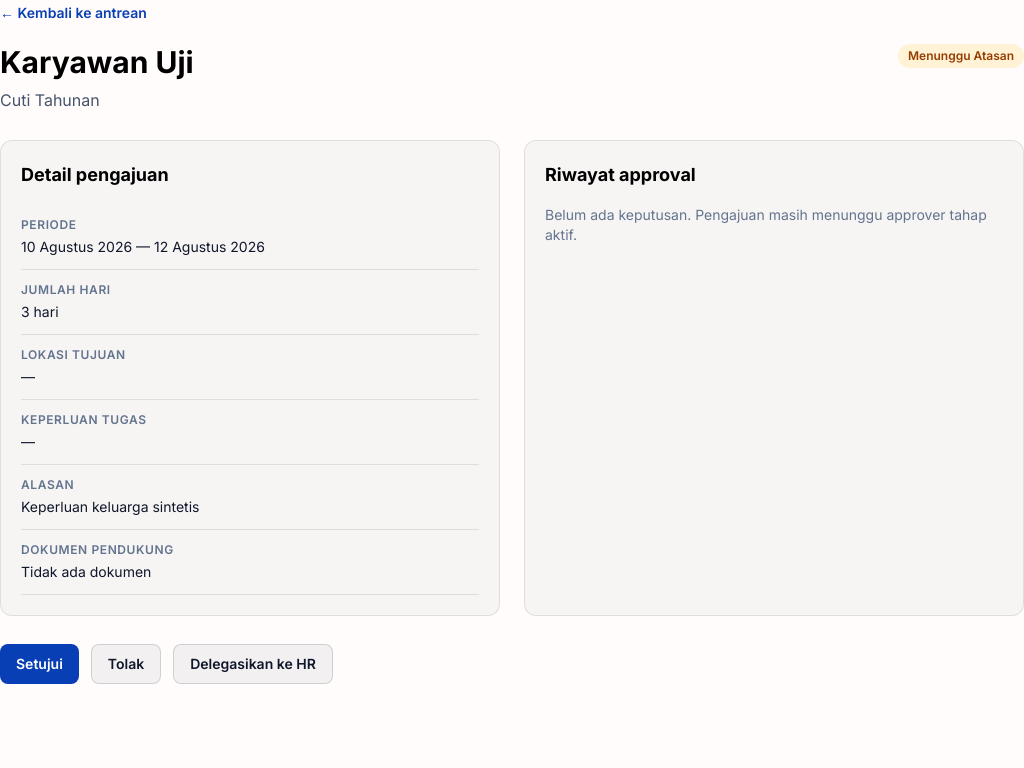
Test: ApprovalDetailPage › refreshes the detail when the server reports ALREADY_DECIDED
Click the button "Setujui" at x=39, y=664, box left=0, top=644, right=79, bottom=684
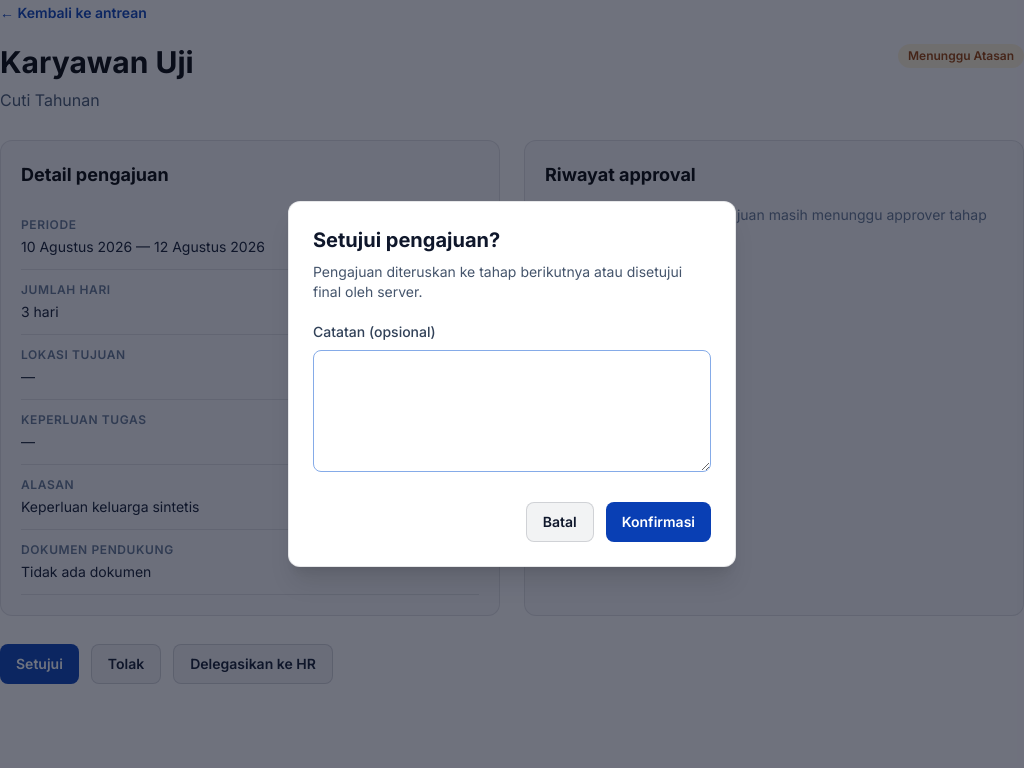
Click the button "Konfirmasi" at x=658, y=522, box left=606, top=502, right=711, bottom=542
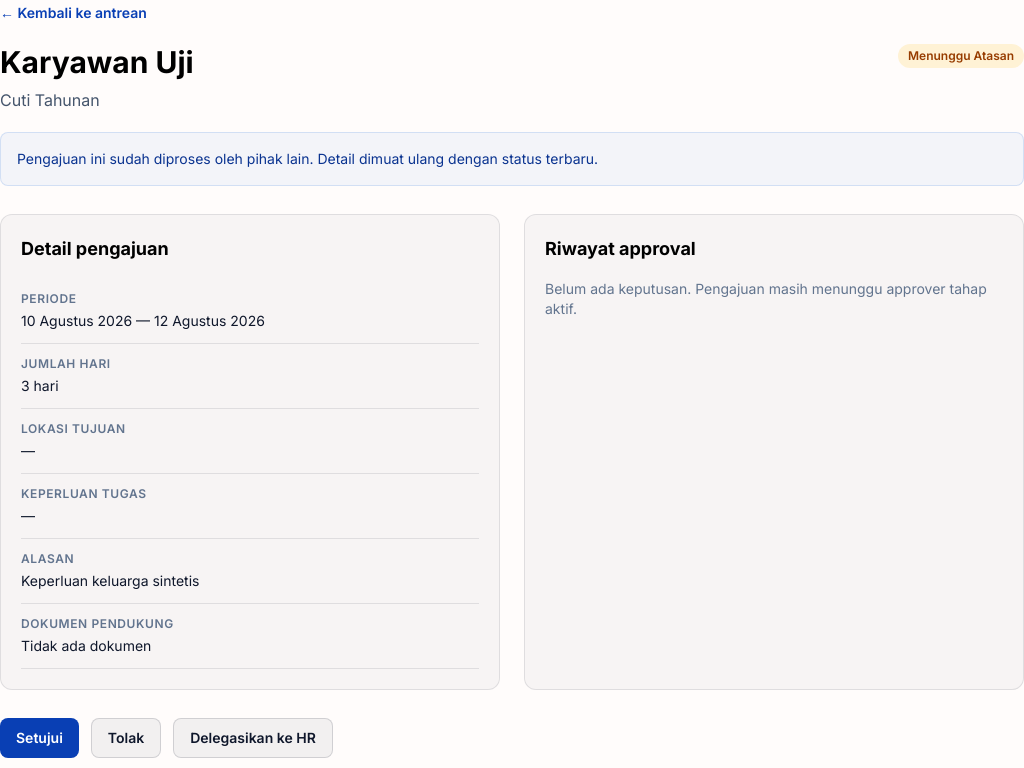
Expected: the text "sudah diproses oleh pihak lain" is shown, left=17, top=150, right=598, bottom=167
Expected: the dialog is gone
